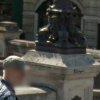Statue: (27, 3, 90, 62)
